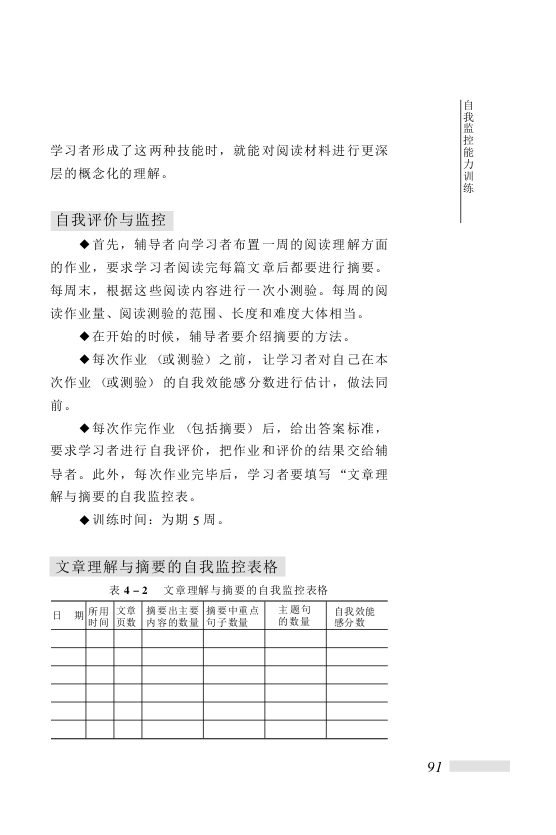table: (50, 600, 388, 740)
